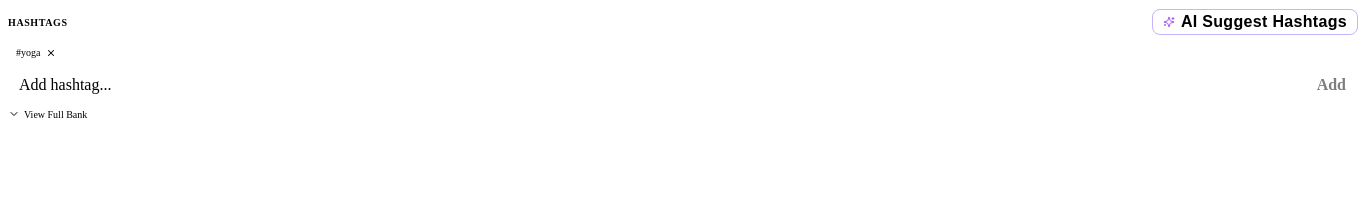
Scenario: PkgHashtagBankComponent › bank chips already in hashtags render with is-added class and are disabled
Step 1. Click the button with class "bank-toggle" → coordinates (48, 114), box x1=8 y1=108 x2=87 y2=120
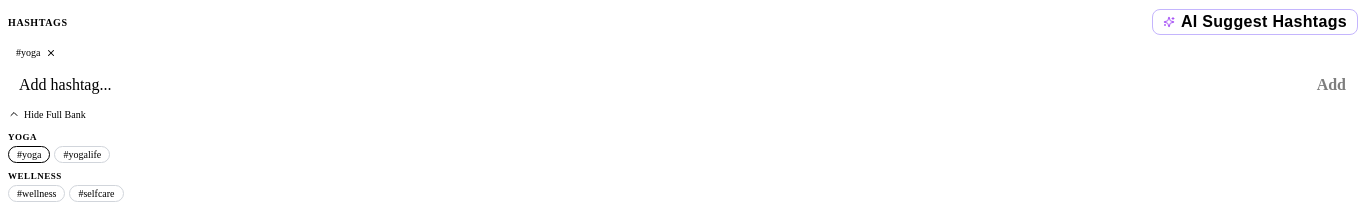
Now the button with class "bank-chip" showing "#yoga" is disabled, box x1=8 y1=146 x2=50 y2=163
